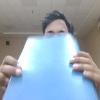notebook: (1, 32, 99, 99)
